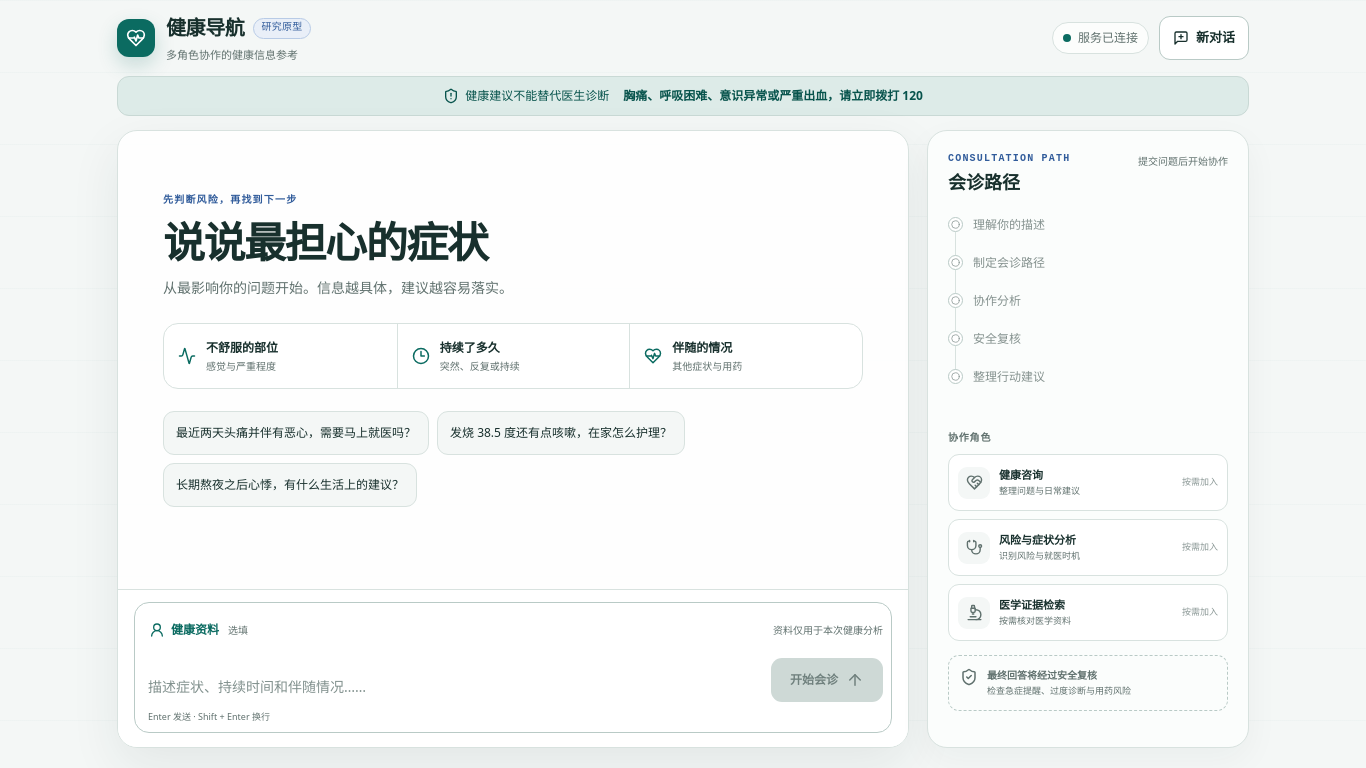
Test: health consultation entry › shows the sanitized consultation result and safety status
The image size is (1366, 768).
Step 1. Type "胸痛并且呼吸困难" into the text box named "描述你的症状或健康问题" → (454, 687), box [148,672,761,702]
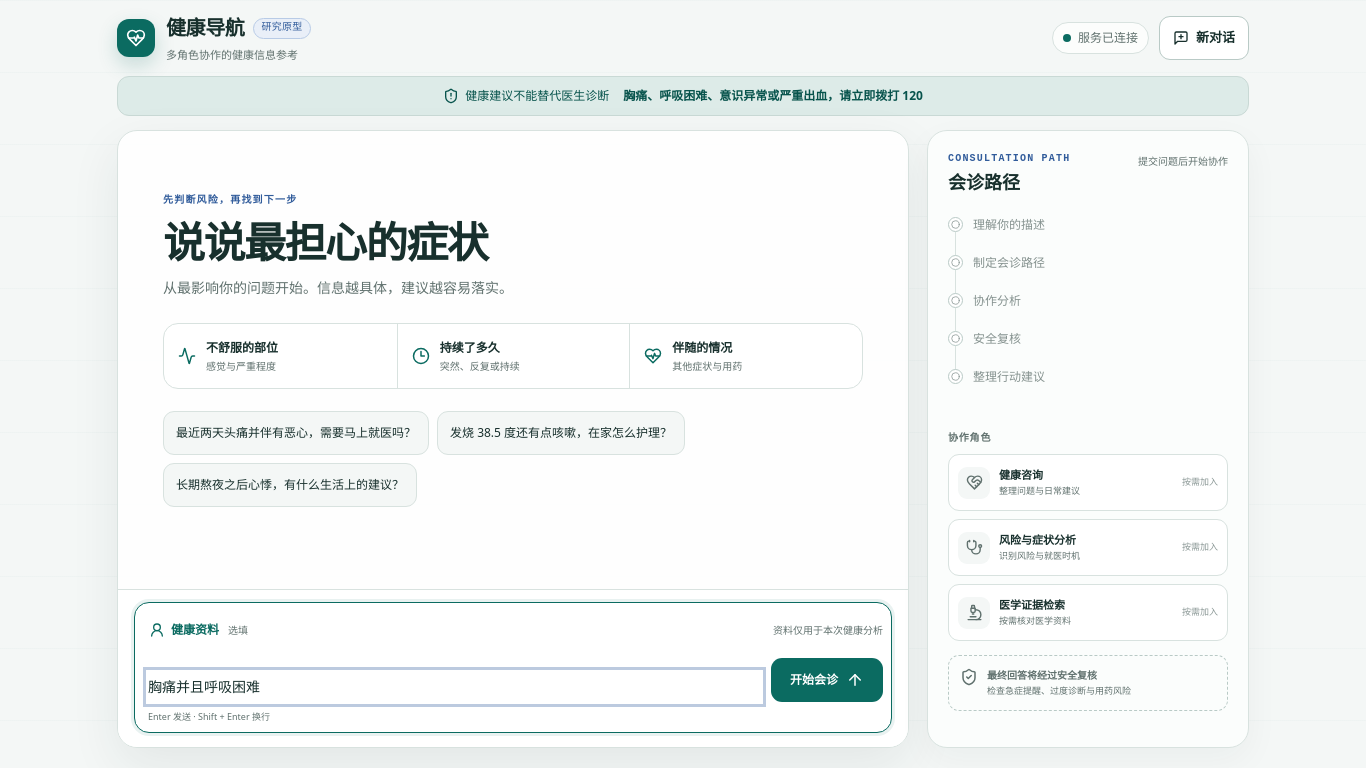
Step 2. Click the button "开始会诊" → (827, 680), box [771,658,883,702]
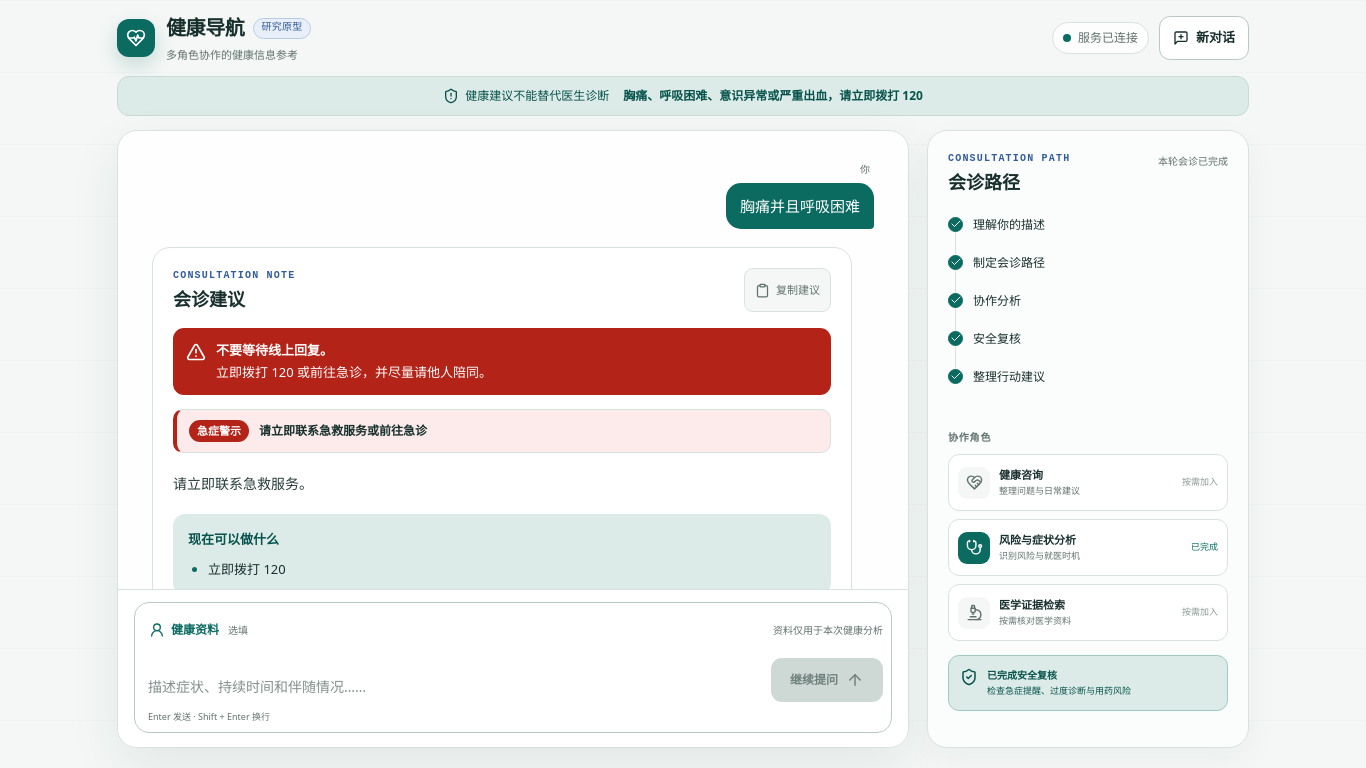
Result: the text "请立即联系急救服务。" is shown at [173,474,313,493]
Result: the text "急症警示" is shown at [189,420,249,442]
Result: the message "不要等待线上回复。 立即拨打 120 或前往急诊，并尽量请他人陪同。" is shown at [173,328,831,395]
